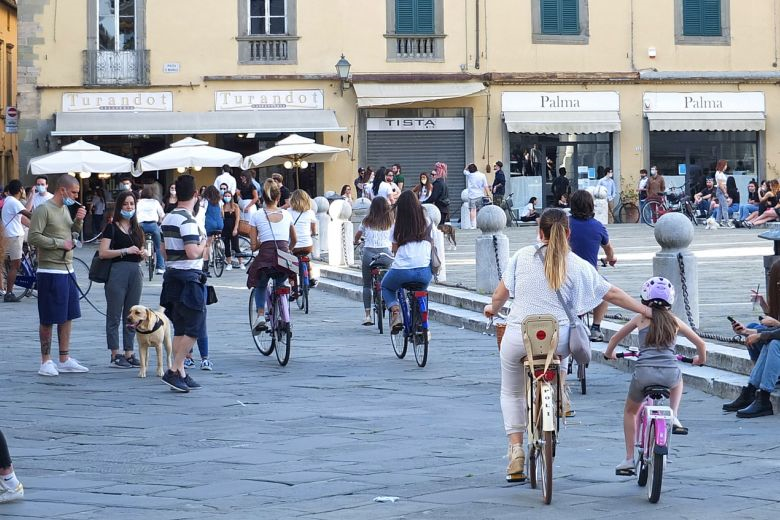mask_weared_incorrect: (56, 179, 82, 207), (116, 192, 138, 221)
